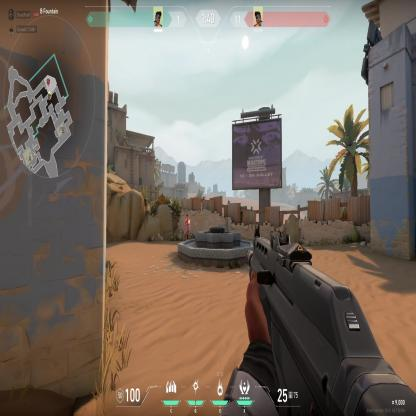enemy: (183, 212, 191, 241)
